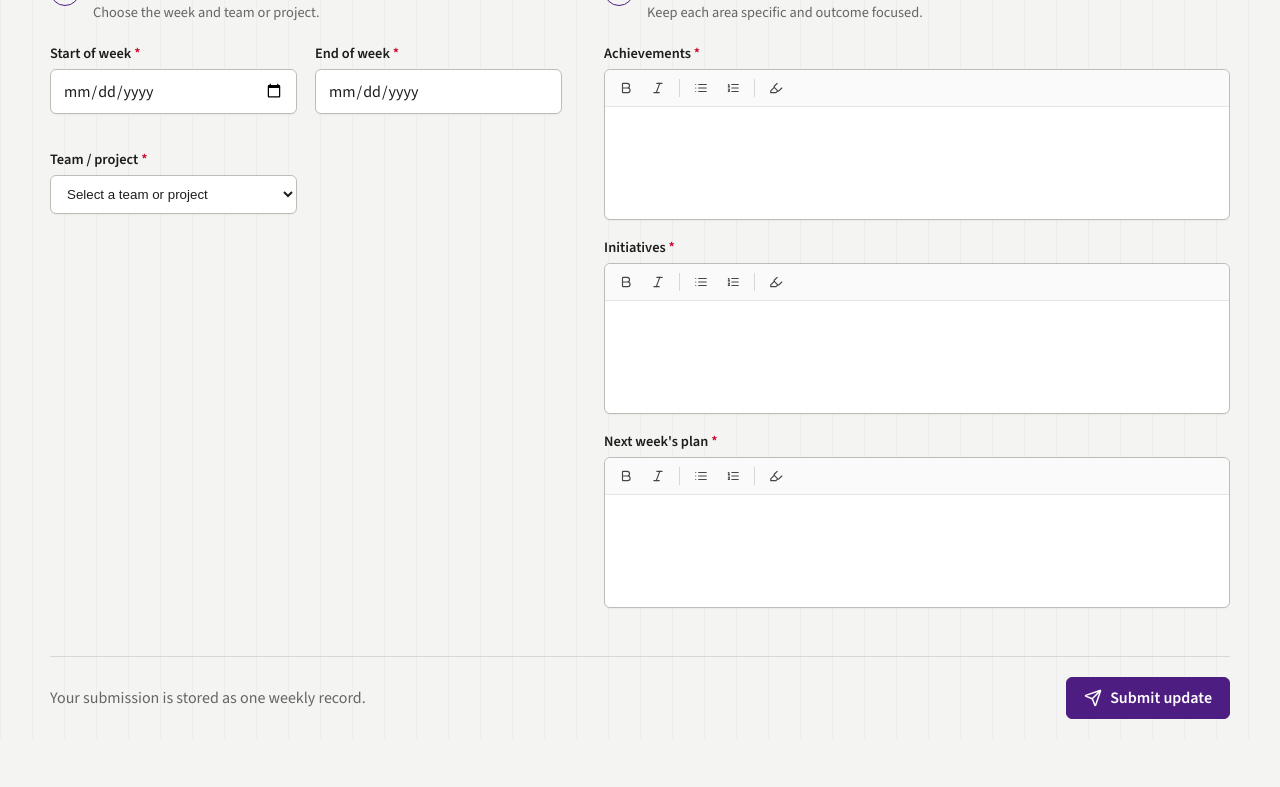
Test: App › links validation errors to required fields
(page scrolled)
What coordinates should you click on to do the following:
click the button "Submit update"
I would click on:
 (1148, 698)
Its box is [1066,677,1230,719].
(page scrolled)
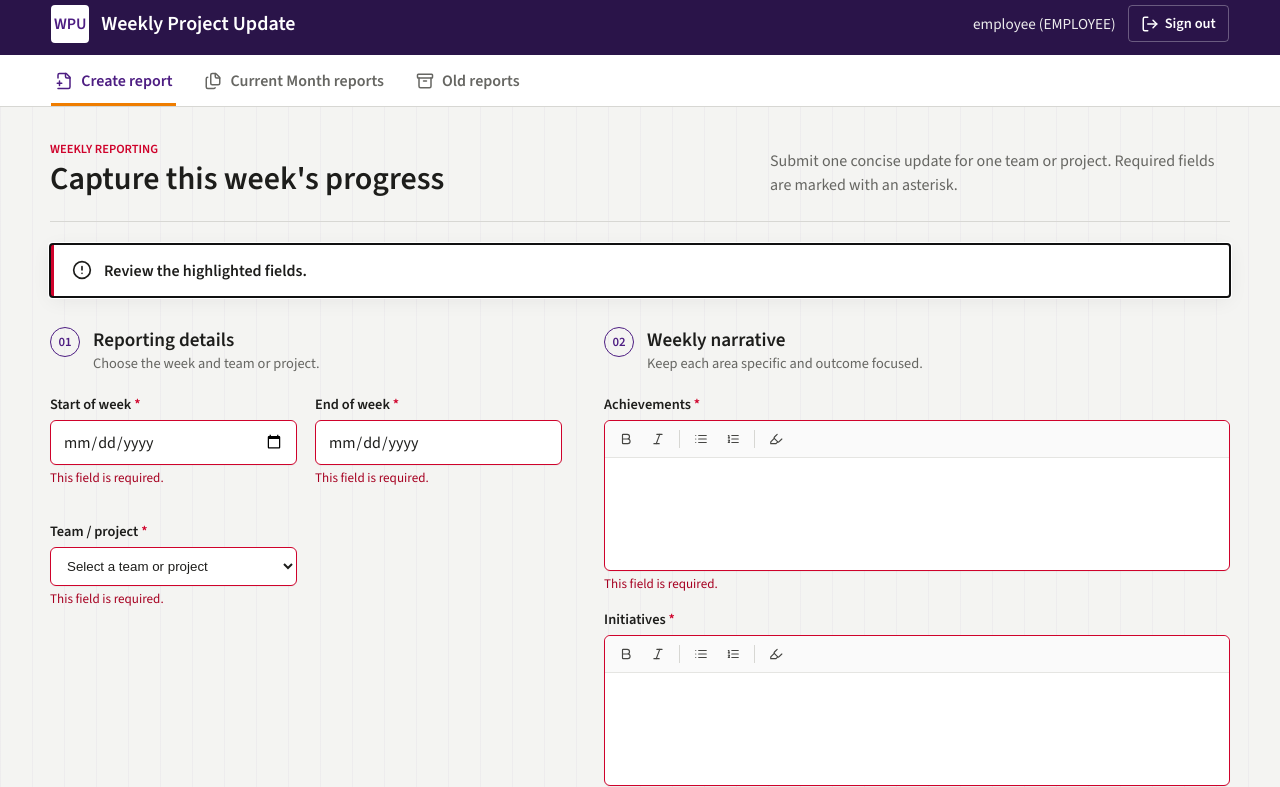
Expected: the message shows "Review the highlighted fields", [104,260,307,281]
